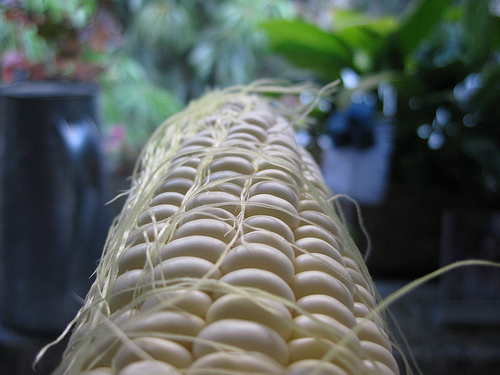corn: (50, 54, 417, 374)
